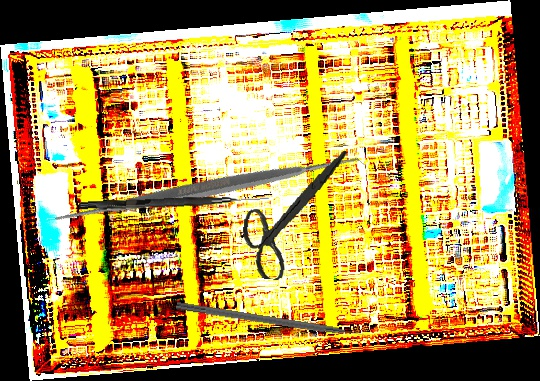Hook Surgical: (175, 301, 370, 343), (78, 192, 270, 212)
Iris Scissors: (237, 140, 349, 287)
Spatula Surgical: (42, 24, 373, 355)
